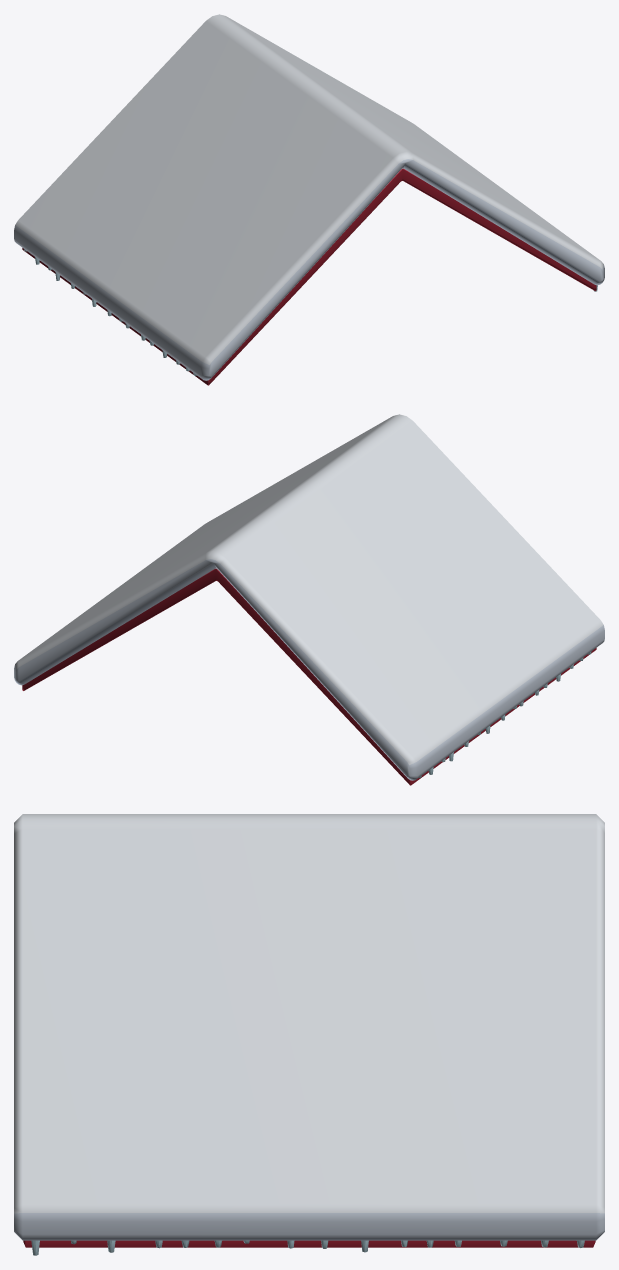
The model's file is CandyHouse_Roof.glb.
The picture shows the model from 3 angles, top to bottom: view 1: azimuth 30°, elevation 25°; view 2: azimuth 150°, elevation 25°; view 3: azimuth 270°, elevation 25°; orthographic projection. The views are drawn at different scales.
Visible parts, largest first — view 1: CandyHouse_Roof; view 2: CandyHouse_Roof; view 3: CandyHouse_Roof.
Boxes of the visible parts, x1,y1,x2,y2 form: CandyHouse_Roof: (14,14,604,385); CandyHouse_Roof: (14,414,604,785); CandyHouse_Roof: (14,814,604,1255).
Bounding box in the file's own units: 27.2 × 12.21 × 22.5.
